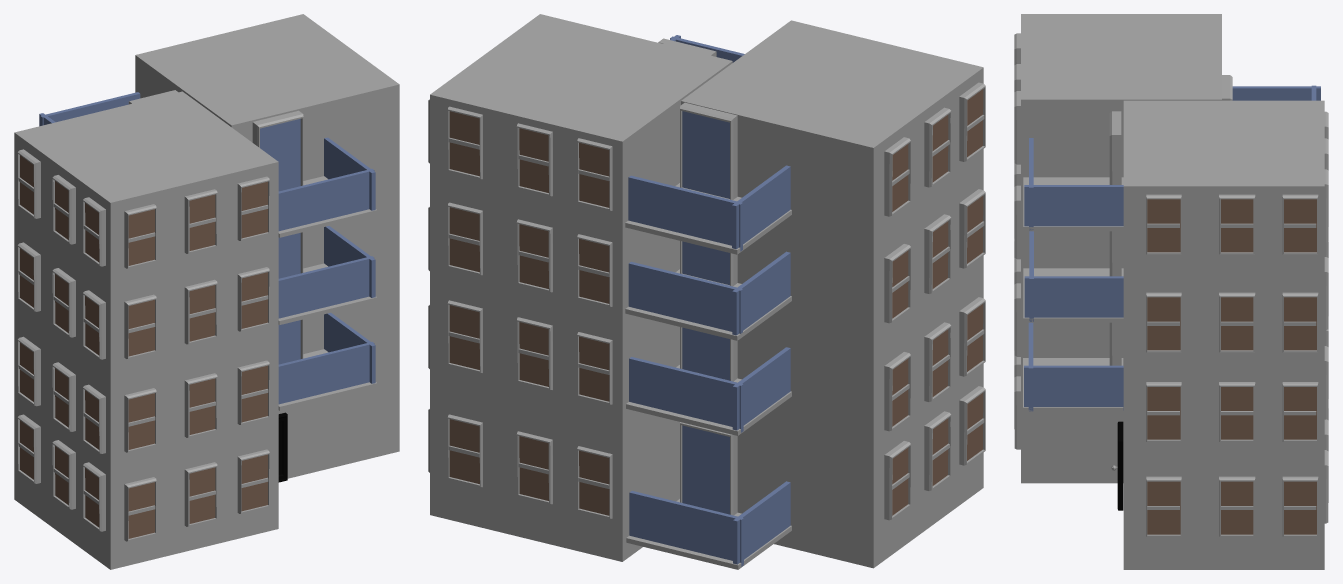
Rendered from Apartments3.fbx.
The picture shows the model from 3 angles, left to right: view 1: azimuth 30°, elevation 25°; view 2: azimuth 150°, elevation 25°; view 3: azimuth 270°, elevation 25°; orthographic projection. The views are drawn at different scales.
Visible parts, largest first — view 1: pCube143, pCube144, polySurface324, polySurface308, polySurface323, polySurface322, pCube260, polySurface335, polySurface334, polySurface336, polySurface333, pCube147 (+10 smaller); view 2: pCube143, pCube144, pCube263, pCube262, pCube261, pCube264, polySurface330, polySurface329, polySurface331, polySurface332, polySurface336, polySurface335 (+6 smaller); view 3: pCube144, pCube143, polySurface328, polySurface325, polySurface327, polySurface326, pCube260, pCube145, pCube94, pCube146, pCube92, pCube263 (+14 smaller).
Part boxes in pixels (left/top/right/bottom): pCube143: left=14, top=91, right=278, bottom=569; pCube144: left=135, top=14, right=399, bottom=478; polySurface324: left=124, top=449, right=269, bottom=541; polySurface308: left=124, top=176, right=269, bottom=268; polySurface323: left=124, top=360, right=269, bottom=452; polySurface322: left=124, top=267, right=269, bottom=358; pCube260: left=278, top=312, right=377, bottom=410; polySurface335: left=17, top=242, right=105, bottom=359; polySurface334: left=17, top=336, right=105, bottom=453; polySurface336: left=17, top=149, right=105, bottom=266; polySurface333: left=17, top=414, right=105, bottom=531; pCube147: left=278, top=256, right=374, bottom=318; pCube143: left=681, top=20, right=983, bottom=568; pCube144: left=430, top=14, right=732, bottom=561; pCube263: left=625, top=165, right=791, bottom=254; pCube262: left=625, top=251, right=791, bottom=340; pCube261: left=626, top=347, right=791, bottom=435; pCube264: left=626, top=481, right=791, bottom=569; polySurface330: left=447, top=106, right=612, bottom=210; polySurface329: left=447, top=202, right=612, bottom=306; polySurface331: left=447, top=300, right=612, bottom=404; polySurface332: left=447, top=414, right=612, bottom=518; polySurface336: left=884, top=82, right=985, bottom=216; polySurface335: left=884, top=189, right=985, bottom=323; pCube144: left=1123, top=100, right=1324, bottom=569; pCube143: left=1021, top=14, right=1221, bottom=483; polySurface328: left=1146, top=194, right=1318, bottom=254; polySurface325: left=1146, top=476, right=1318, bottom=536; polySurface327: left=1146, top=292, right=1318, bottom=352; polySurface326: left=1146, top=382, right=1318, bottom=441; pCube260: left=1023, top=322, right=1123, bottom=411; pCube145: left=1024, top=276, right=1123, bottom=317; pCube94: left=1024, top=185, right=1123, bottom=226; pCube146: left=1023, top=268, right=1123, bottom=322; pCube92: left=1023, top=177, right=1123, bottom=231; pCube263: left=1232, top=85, right=1320, bottom=100.
Bounding box in the file's own units: 55.04 × 55.2 × 41.01.
